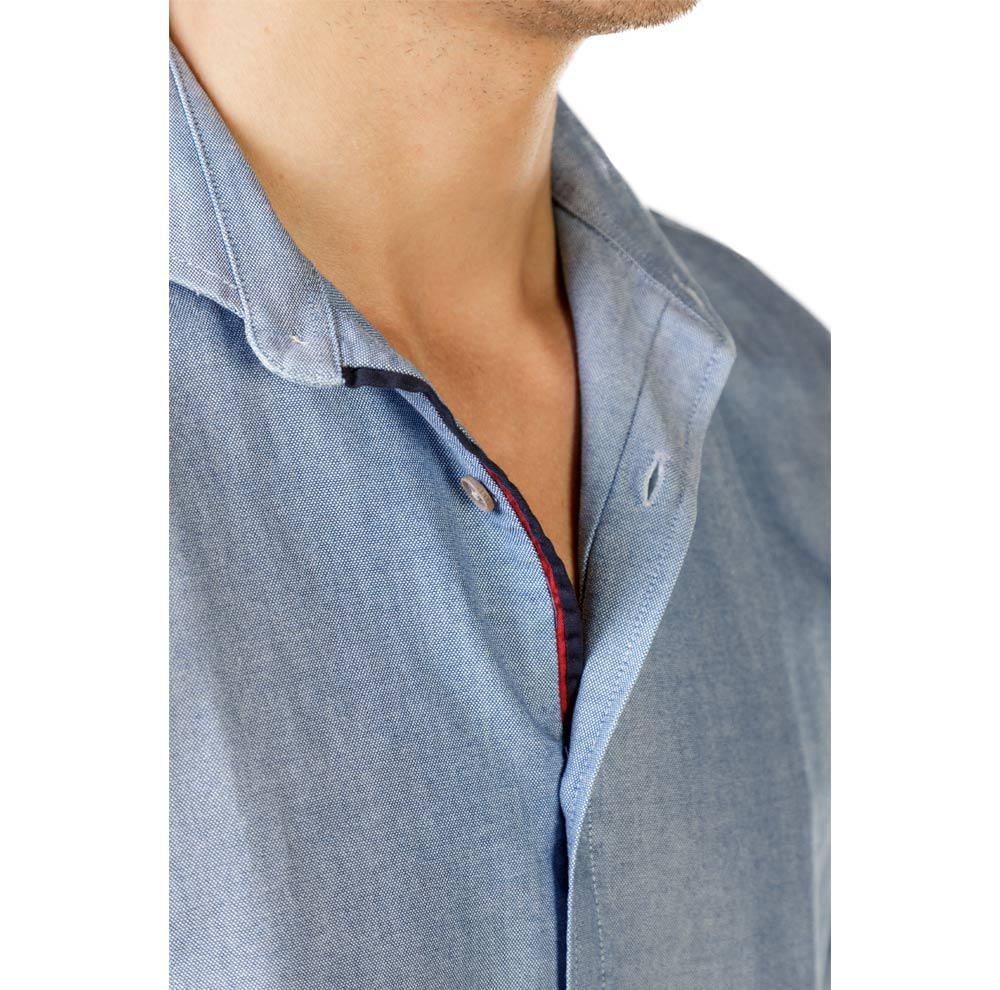teeshirt: (155, 34, 837, 990)
